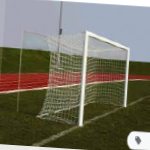goals: (37, 29, 131, 126)
